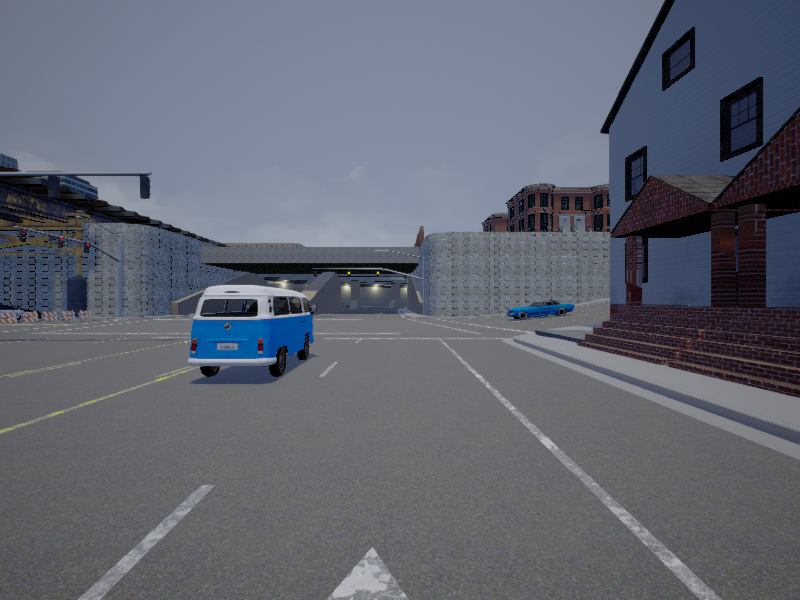Benign: (190, 286, 315, 376), (505, 299, 574, 318)
